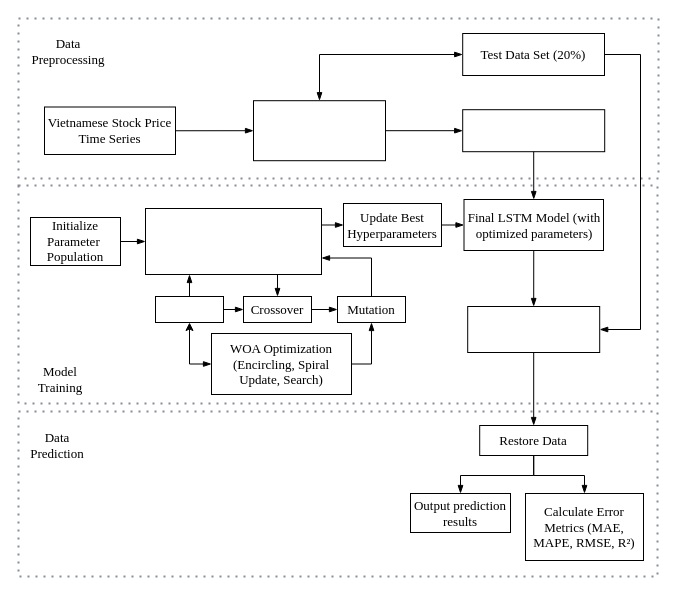
The diagram is 676 pixels wide and 594 high, and some of its shapes have lost their labels. Each missing label, with the centre of its shape:
Calculate Fitness (Train LSTM & evaluate on validation set): the point at 233,241
Data Planning, Segmentation and Reorganization: the point at 319,130
Selection: the point at 189,309
Trained GA-WOA-LSTM Model: the point at 533,329
Training Data Set (80%): the point at 533,130
